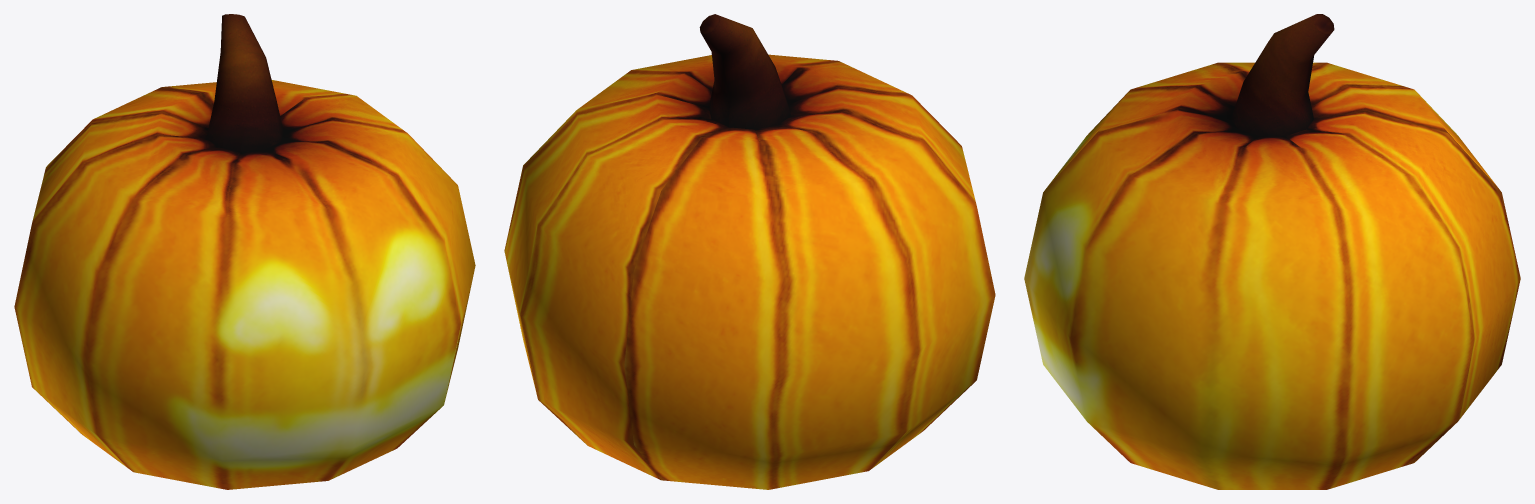
Rendered from calabaza.glb.
The picture shows the model from 3 angles, left to right: view 1: azimuth 30°, elevation 25°; view 2: azimuth 150°, elevation 25°; view 3: azimuth 270°, elevation 25°; orthographic projection. The views are drawn at different scales.
Parts seen in each view (by area): view 1: pumpkin; view 2: pumpkin; view 3: pumpkin.
Boxes of the visible parts, bbox=[...] form: pumpkin: bbox=[14, 14, 475, 489]; pumpkin: bbox=[504, 14, 995, 489]; pumpkin: bbox=[1024, 14, 1520, 489].
Bounding box in the file's own units: 1.9 × 1.92 × 2.
Materials: 1 (1 with a texture image).
